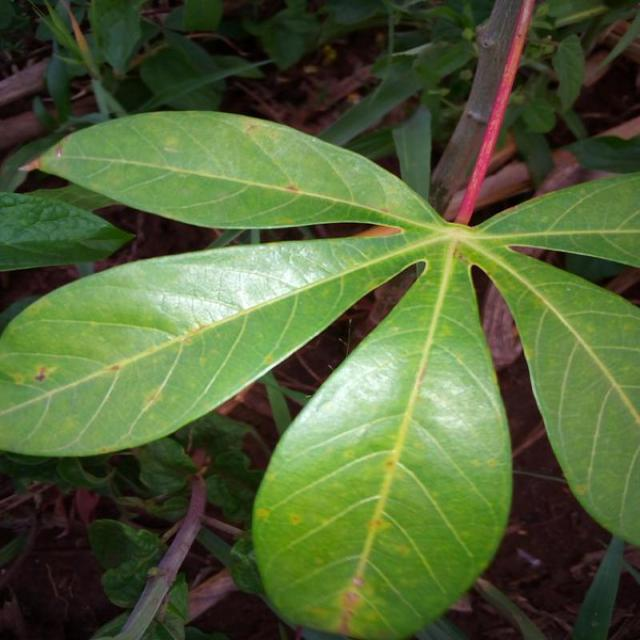cassava leaf: (1, 103, 639, 637), (251, 244, 514, 638), (466, 237, 639, 548), (22, 106, 446, 232)
